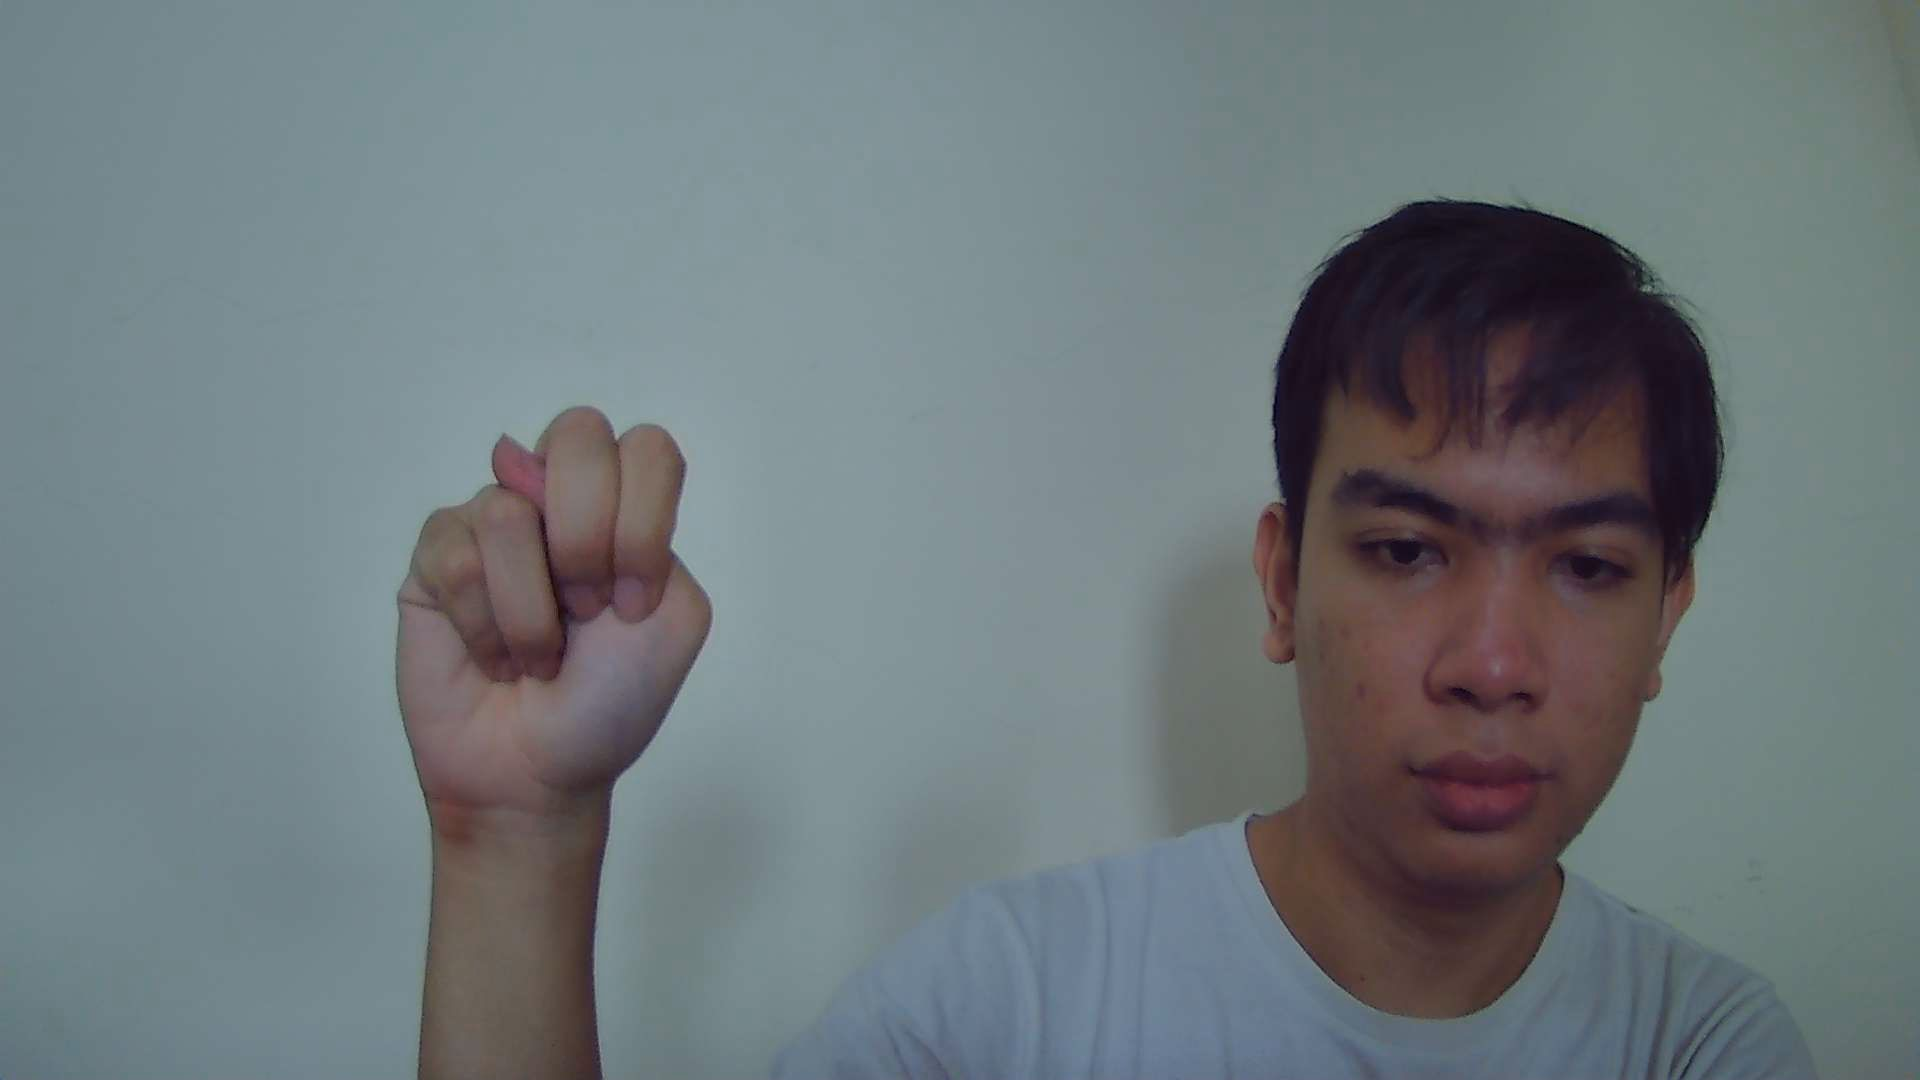n: (390, 401, 717, 756)
